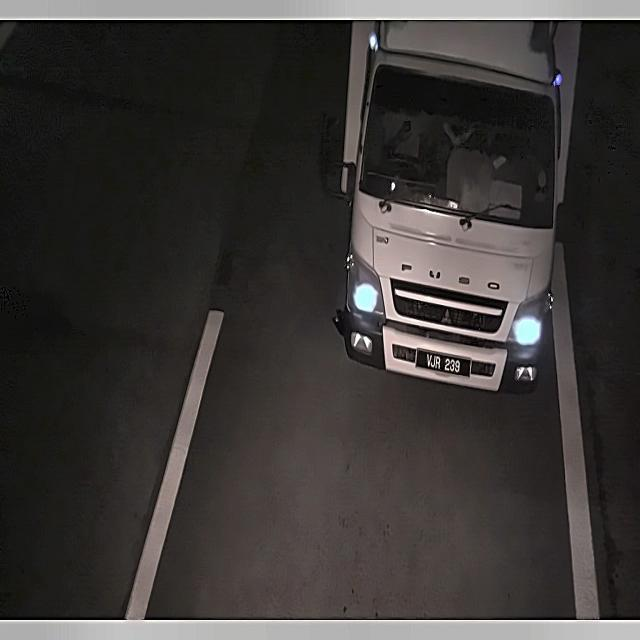car: (419, 346, 466, 382)
